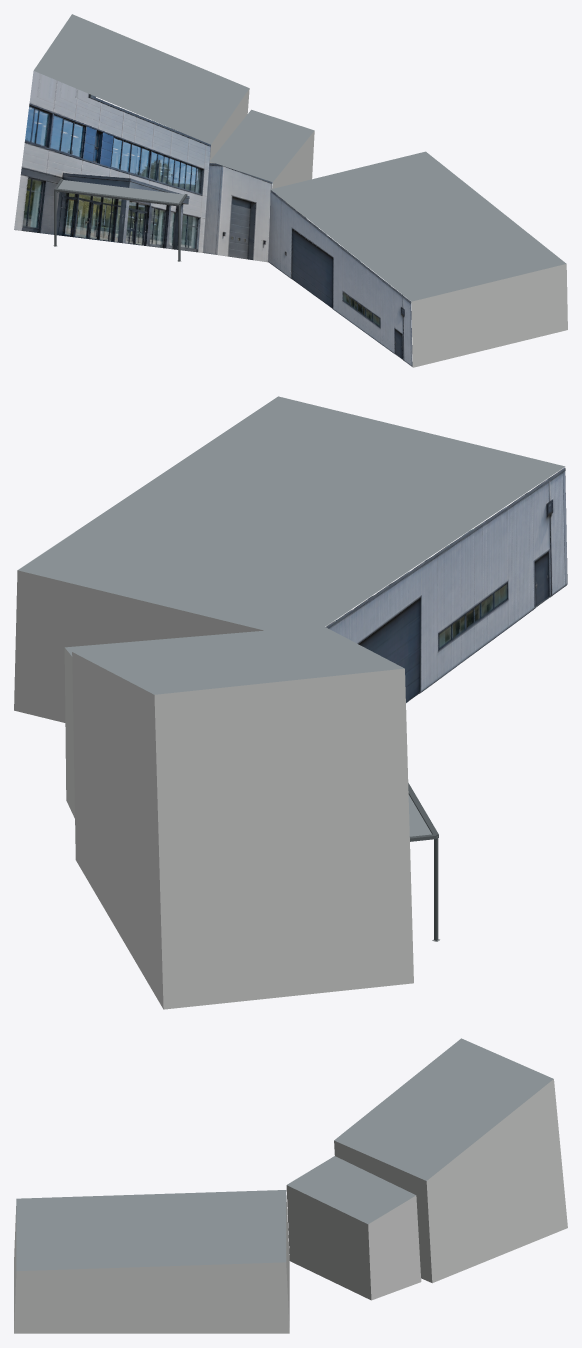
File: training_buildings.glb
The picture shows the model from 3 angles, top to bottom: view 1: azimuth 30°, elevation 25°; view 2: azimuth 150°, elevation 25°; view 3: azimuth 270°, elevation 25°; orthographic projection. The views are drawn at different scales.
Visible parts, largest first — view 1: training_buildings; view 2: training_buildings; view 3: training_buildings.
Boxes of the visible parts, x1,y1,x2,y2 form: training_buildings: (14, 14, 567, 367); training_buildings: (14, 396, 567, 1009); training_buildings: (14, 1038, 567, 1333).
Bounding box in the file's own units: 36.3 × 17.91 × 58.11.
Materials: 5 (1 with a texture image).
